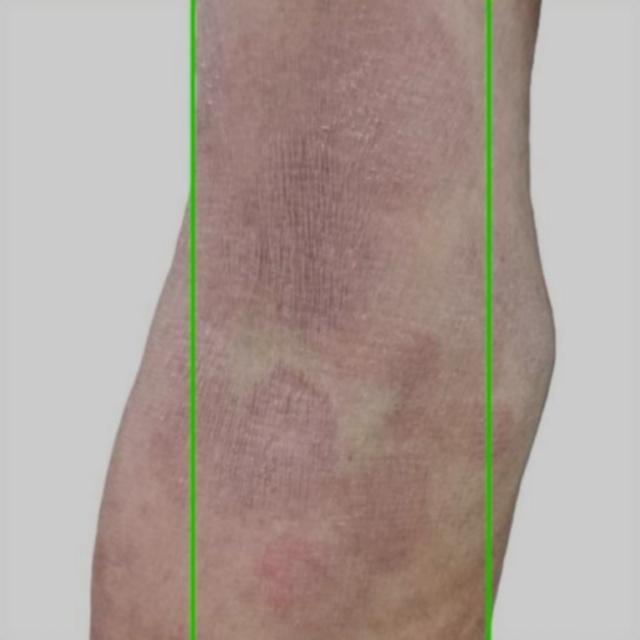Eczema: (0, 0, 194, 639), (488, 0, 639, 639)
